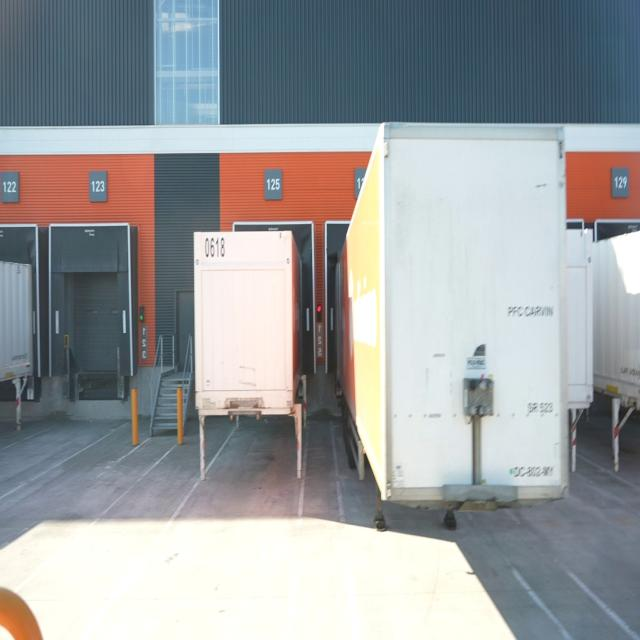Code: (201, 231, 232, 261)
